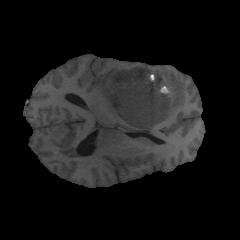glioma: (97, 65, 186, 132)
